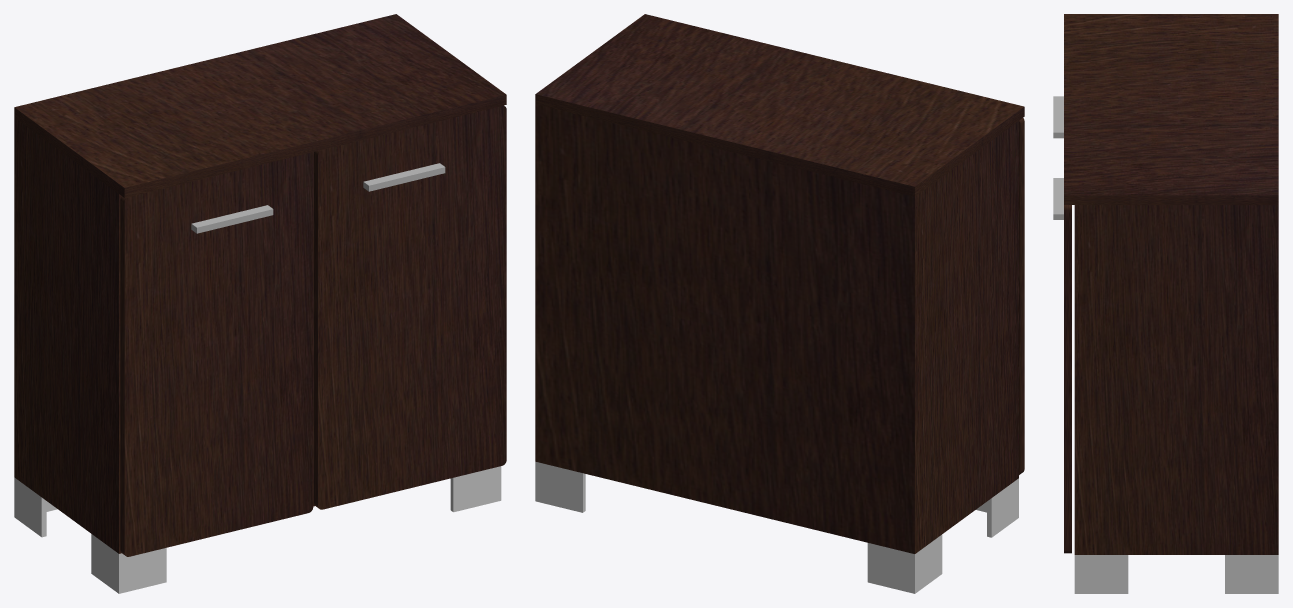
The model's file is mobilettowenge.obj.
The picture shows the model from 3 angles, left to right: view 1: azimuth 30°, elevation 25°; view 2: azimuth 150°, elevation 25°; view 3: azimuth 270°, elevation 25°; orthographic projection. The views are drawn at different scales.
Visible parts, largest first — view 1: Rectangle15_5, Rectangle14_4, Box04_10, Box22_6, Line10_9, Line07_3, Line08_7, Box21_1, Box23_8; view 2: Box22_6, Box04_10, Line08_7, Rectangle15_5, Line06_2, Line10_9; view 3: Box22_6, Box04_10, Rectangle14_4, Line07_3, Line06_2, Box21_1, Box23_8.
Boxes of the visible parts, <box> form: Rectangle15_5: <box>120,152,313,556</box>; Rectangle14_4: <box>314,105,506,509</box>; Box04_10: <box>14,14,506,197</box>; Box22_6: <box>14,117,314,553</box>; Line10_9: <box>91,534,166,593</box>; Line07_3: <box>450,466,501,512</box>; Line08_7: <box>14,477,57,537</box>; Box21_1: <box>191,205,273,233</box>; Box23_8: <box>363,163,445,191</box>; Box22_6: <box>535,104,1018,553</box>; Box04_10: <box>535,14,1024,196</box>; Line08_7: <box>867,534,942,593</box>; Rectangle15_5: <box>1019,118,1024,474</box>; Line06_2: <box>535,461,585,512</box>; Line10_9: <box>976,478,1018,537</box>; Box22_6: <box>1074,205,1278,554</box>; Box04_10: <box>1064,14,1278,204</box>; Rectangle14_4: <box>1064,205,1071,553</box>; Line07_3: <box>1074,555,1128,593</box>; Line06_2: <box>1225,555,1278,593</box>; Box21_1: <box>1053,96,1063,138</box>; Box23_8: <box>1053,178,1063,219</box>.
Size of the model in its own units: 80 by 82 by 42.
3 materials, 1 textured.
